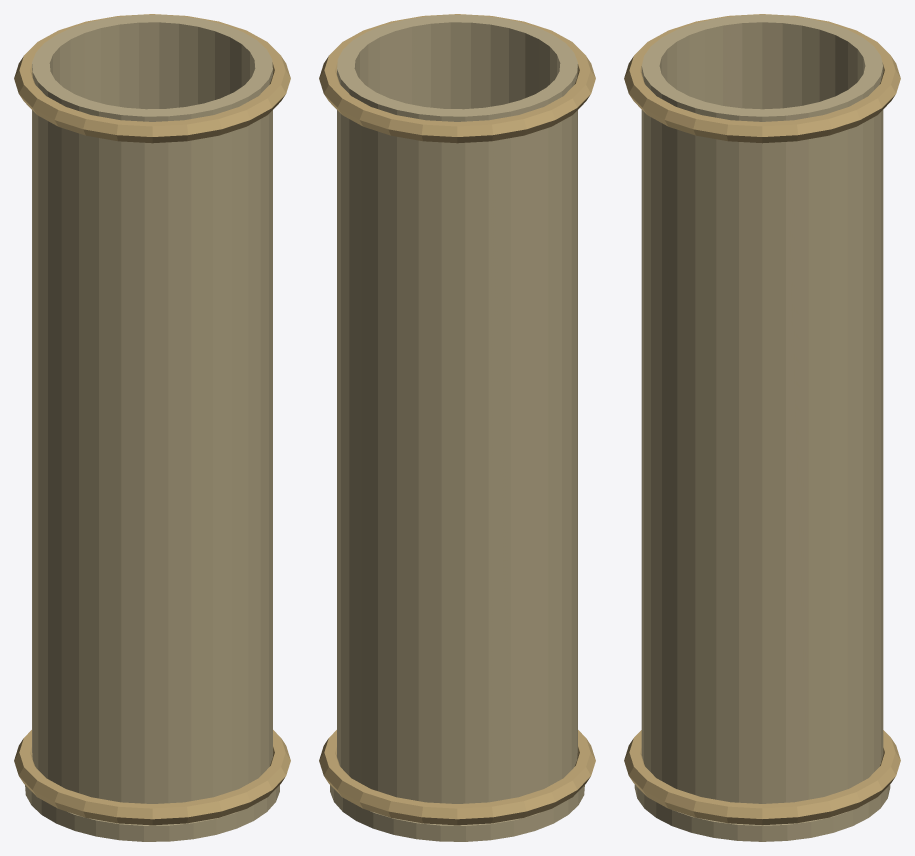
Rendered from iching_lot_cylinder.glb.
3 renders of one model, left to right at view 1: azimuth 30°, elevation 25°; view 2: azimuth 150°, elevation 25°; view 3: azimuth 270°, elevation 25°, orthographic.
Parts seen in each view (by area): view 1: iching_lot_cylinder; view 2: iching_lot_cylinder; view 3: iching_lot_cylinder.
Boxes of the visible parts, x1,y1,x2,y2 form: iching_lot_cylinder: (14, 14, 290, 841); iching_lot_cylinder: (319, 14, 595, 841); iching_lot_cylinder: (624, 14, 900, 841).
Bounding box in the file's own units: 0.39 × 1.12 × 0.39.
